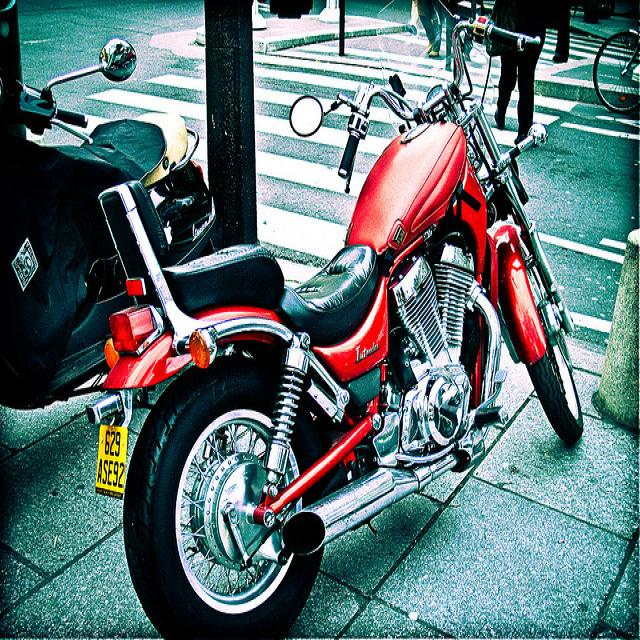motor: (85, 14, 588, 629), (2, 33, 221, 416)
